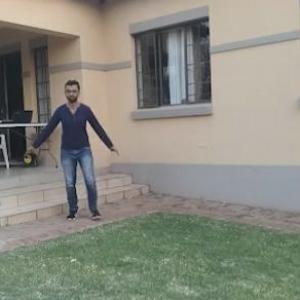land: (35, 85, 124, 227)
